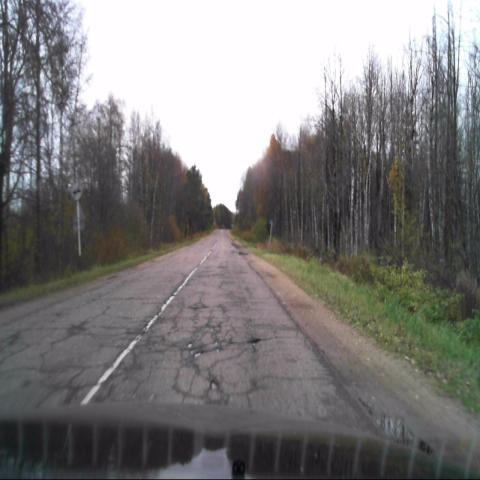3_21: (71, 182, 82, 202)
